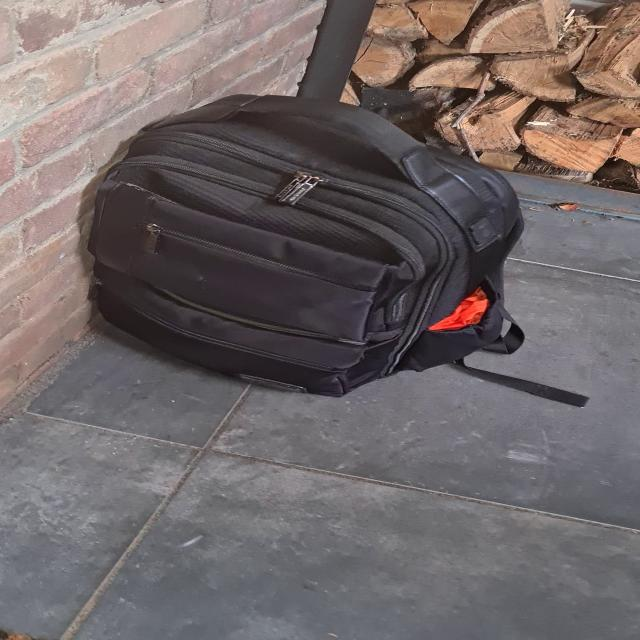backpack: (65, 79, 542, 404)
